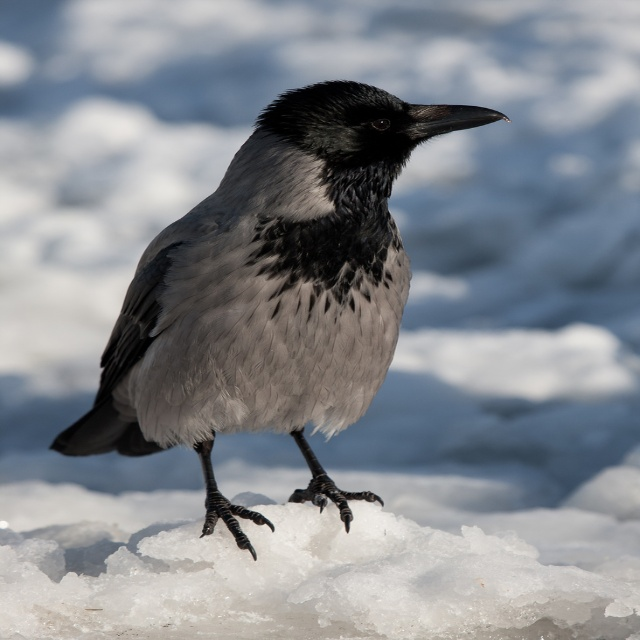Raven: (48, 79, 511, 562)
